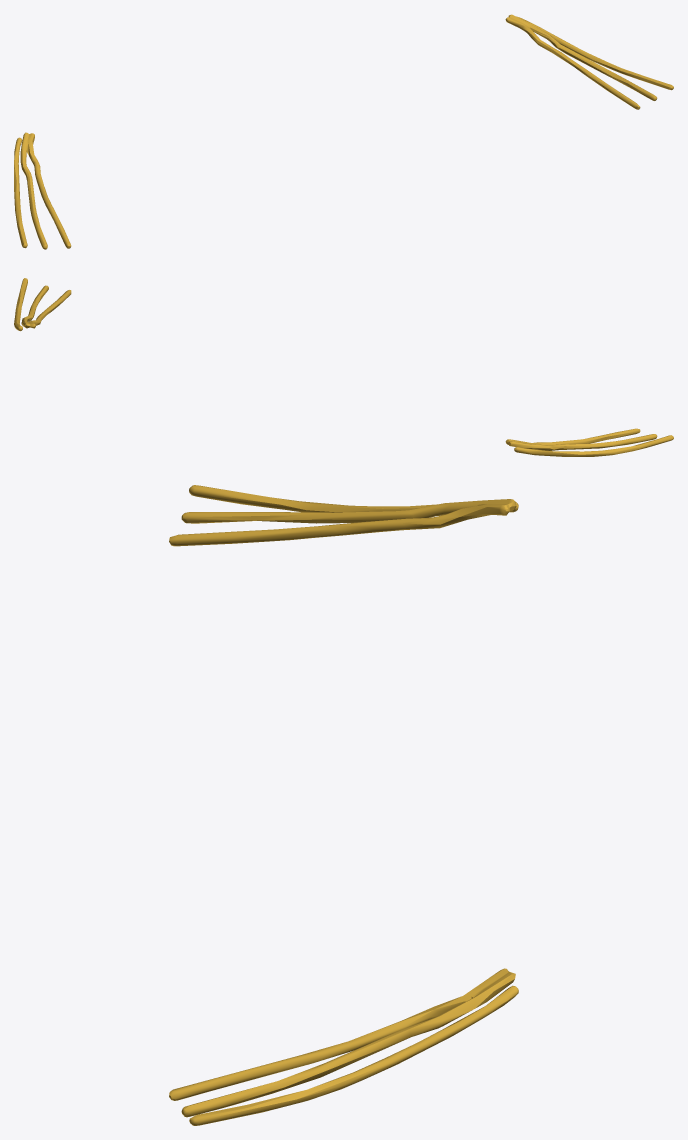
Rendered from short-ciliary.glb.
3 renders of one model, top to bottom at view 1: azimuth 30°, elevation 25°; view 2: azimuth 150°, elevation 25°; view 3: azimuth 270°, elevation 25°, orthographic. The views are drawn at different scales.
Visible parts, largest first — view 1: FMA7041_FJ1319, FMA7041_FJ1370; view 2: FMA7041_FJ1370, FMA7041_FJ1319; view 3: FMA7041_FJ1319, FMA7041_FJ1370.
Part boxes in pixels (box(x1,y1,x2,y2)): FMA7041_FJ1319: box(505, 14, 673, 109); FMA7041_FJ1370: box(14, 132, 71, 249); FMA7041_FJ1370: box(505, 428, 673, 456); FMA7041_FJ1319: box(14, 278, 71, 331); FMA7041_FJ1319: box(169, 968, 518, 1125); FMA7041_FJ1370: box(169, 485, 518, 546).
Bounding box in the file's own units: 0.6572 × 0.0419 × 0.1531.
